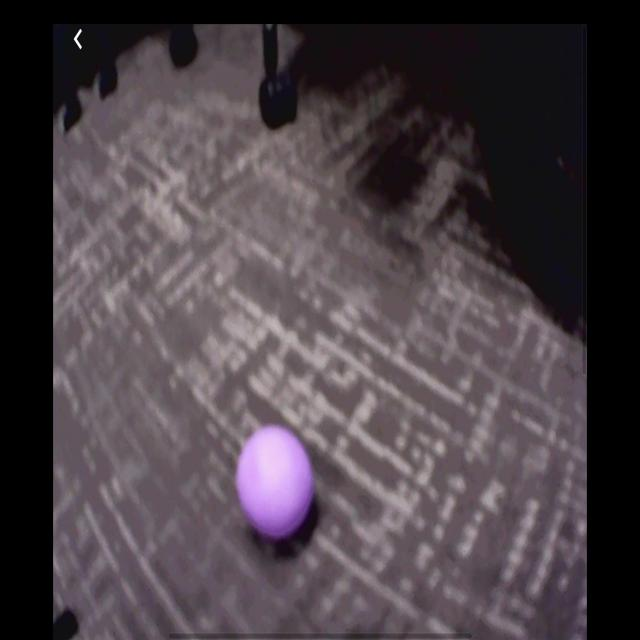ball: (234, 422, 315, 542)
